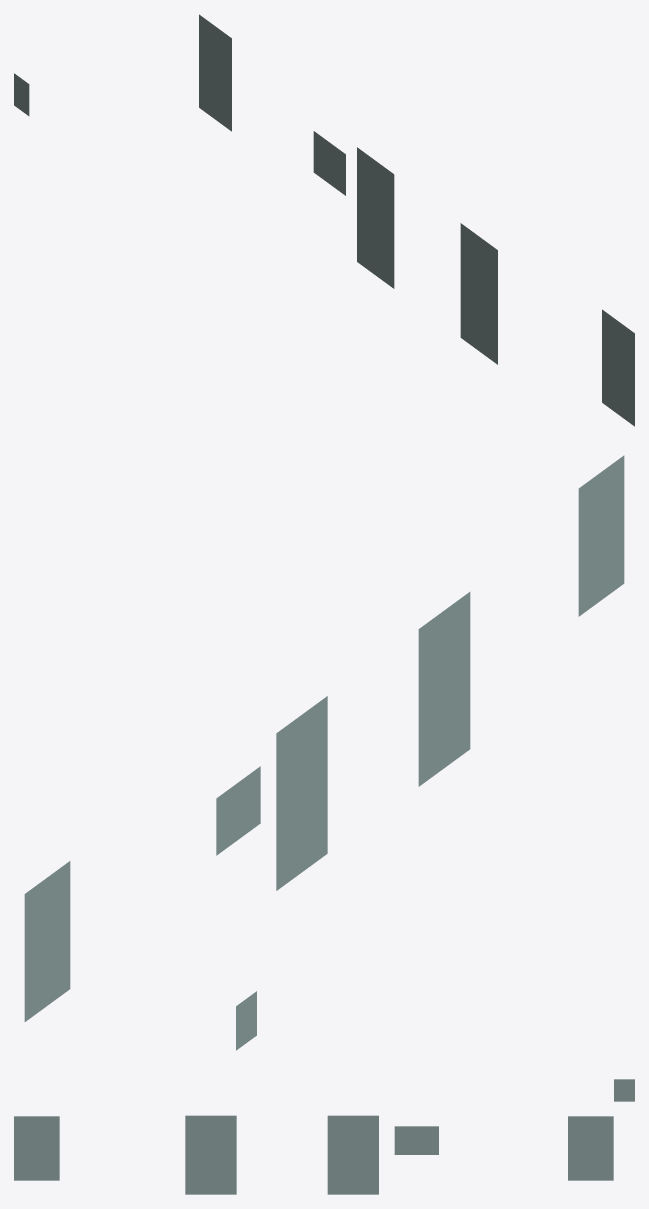
The model's file is SM_Town_Cinema_Glass.glb.
3 renders of one model, top to bottom at view 1: azimuth 30°, elevation 25°; view 2: azimuth 150°, elevation 25°; view 3: azimuth 270°, elevation 25°, orthographic. The views are drawn at different scales.
Visible parts, largest first — view 1: SM_Town_Cinema_Glass; view 2: SM_Town_Cinema_Glass; view 3: SM_Town_Cinema_Glass.
Boxes of the visible parts, box(x1,y1,x2,y2) form: SM_Town_Cinema_Glass: box(14, 14, 634, 426); SM_Town_Cinema_Glass: box(24, 455, 624, 1050); SM_Town_Cinema_Glass: box(14, 1079, 634, 1194).
Size of the model in its own units: 3.39 by 2.29 by 15.69.
